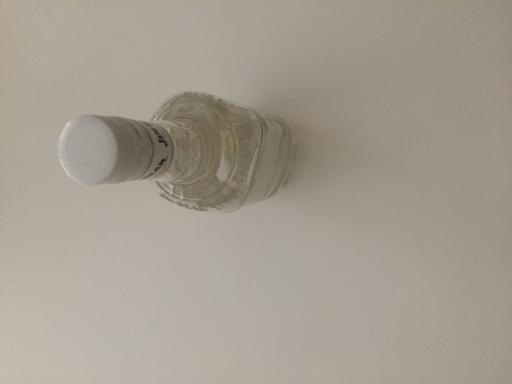botolkaca: (58, 91, 295, 212)
